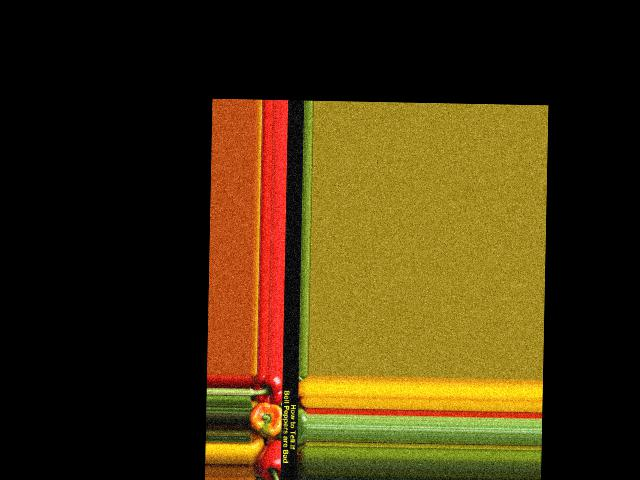bell_pepper: (249, 375, 284, 406)
